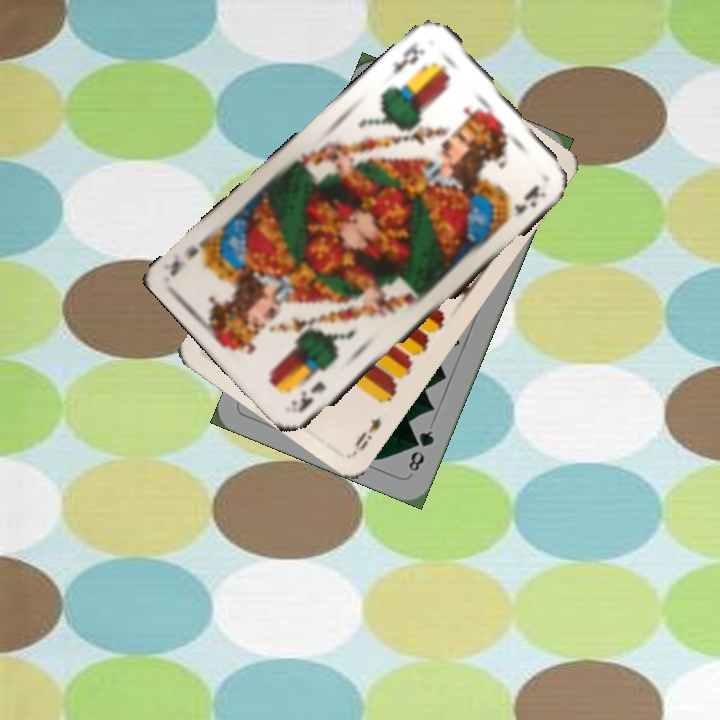E9: (350, 413, 384, 456)
EK: (388, 38, 428, 78), (294, 377, 329, 416)
G8: (404, 426, 437, 474)
